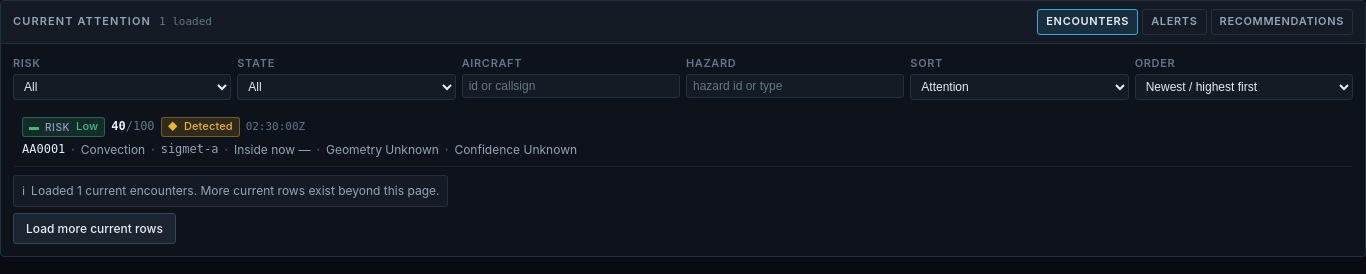
Test: OperationalWorklist › walks opaque nextToken pages without decoding the cursor
Click the button "Load more current rows": (94, 228) 13,213 -> 176,244
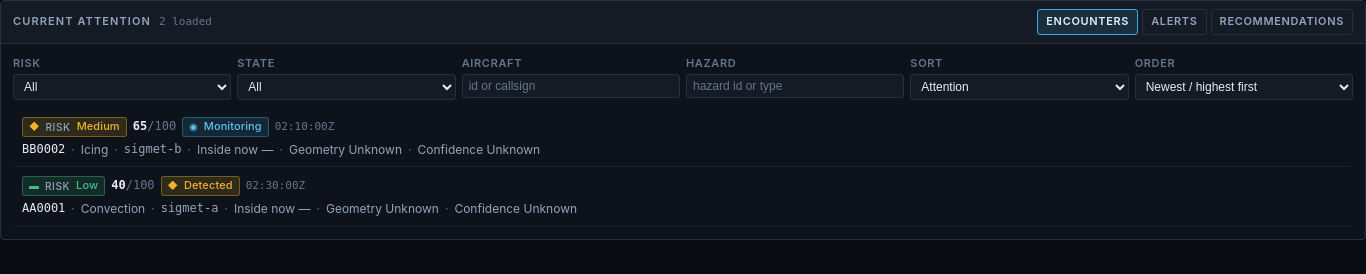
Expected: the text "AA0001" is shown, 22,200 -> 65,218
Now the text "BB0002" is shown, box 22,141 -> 65,158
